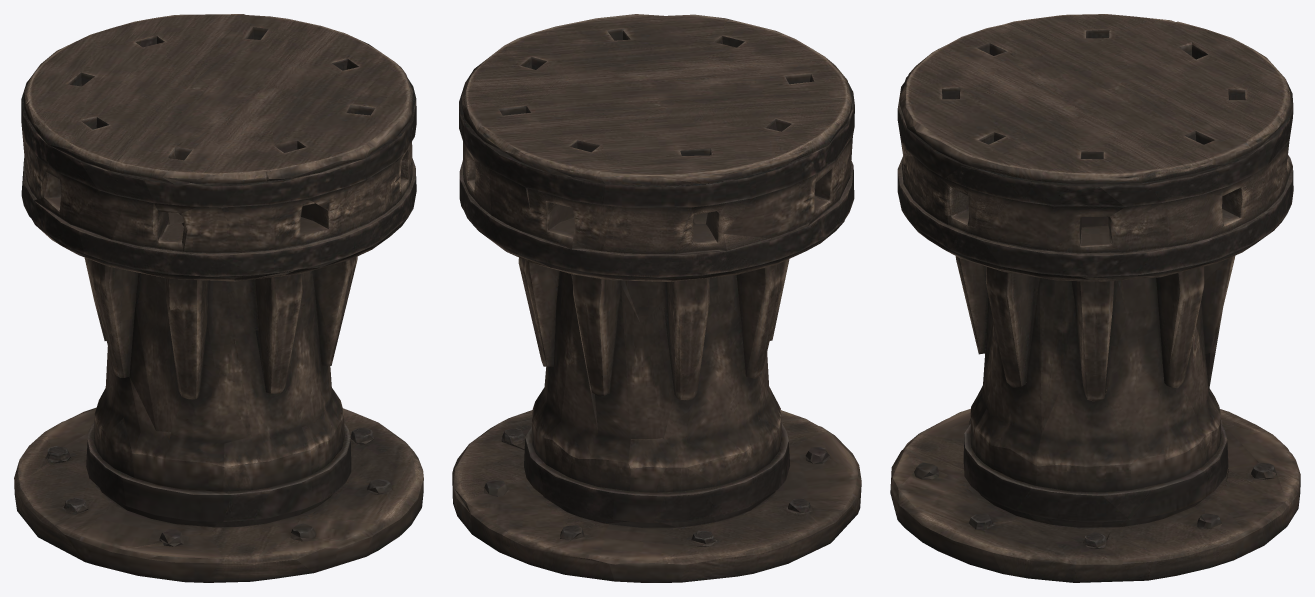
File: capstan.glb
3 renders of one model, left to right at view 1: azimuth 30°, elevation 25°; view 2: azimuth 150°, elevation 25°; view 3: azimuth 270°, elevation 25°, orthographic.
Visible parts, largest first — view 1: Mesh_0; view 2: Mesh_0; view 3: Mesh_0.
Part boxes in pixels (x1,y1,x2,y2): Mesh_0: (14, 14, 423, 582); Mesh_0: (452, 14, 861, 582); Mesh_0: (890, 14, 1300, 582).
Size of the model in its own units: 0.9189 by 1 by 0.92.
1 material, 1 textured.
